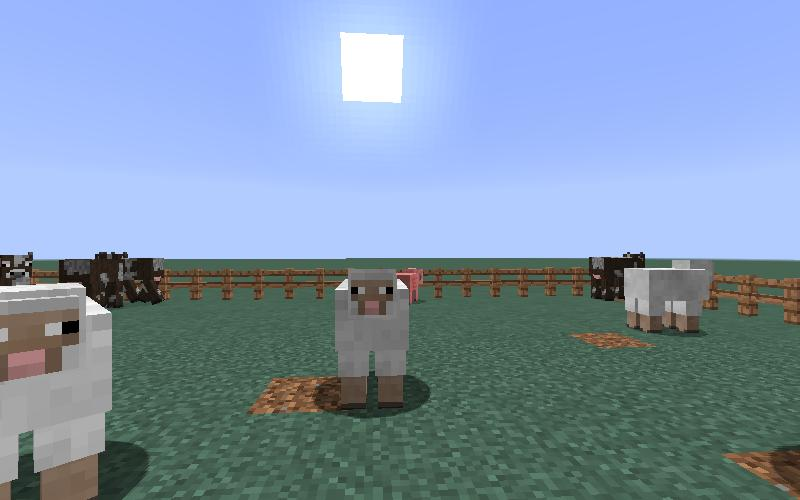cow: (58, 248, 124, 308), (589, 251, 646, 302), (124, 250, 163, 307), (1, 253, 33, 283)
sheep: (1, 279, 118, 500), (327, 264, 414, 413), (619, 255, 718, 338)
